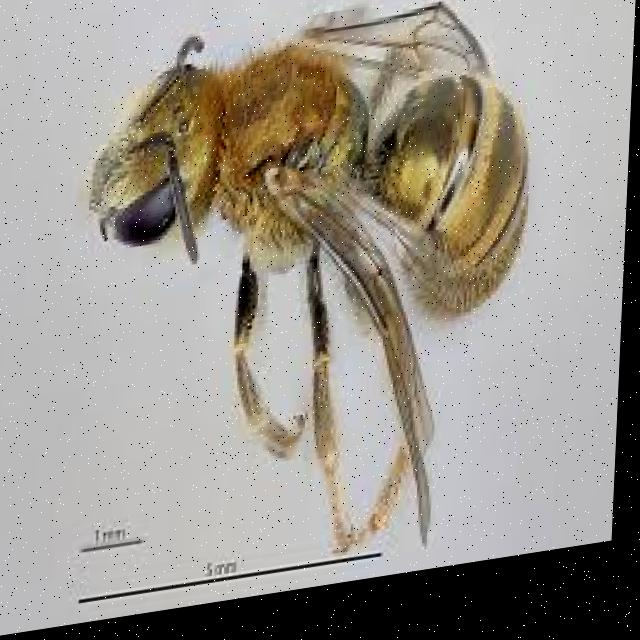Seladonia: (61, 0, 551, 574)
